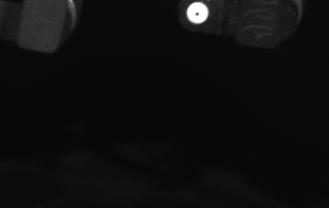fiber: (183, 1, 215, 29)
